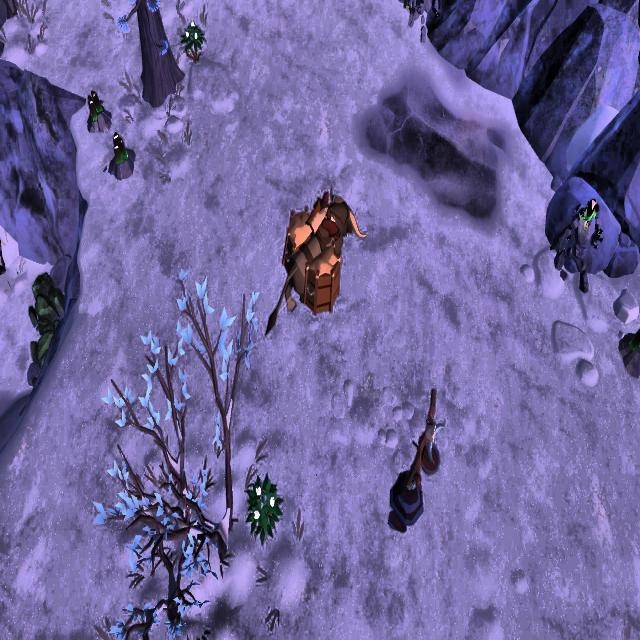fiber_t3: (246, 472, 282, 540), (182, 20, 204, 56)
ore_t3: (110, 129, 126, 168), (85, 87, 100, 123)
rock_t3: (26, 265, 70, 327), (26, 326, 62, 375)
